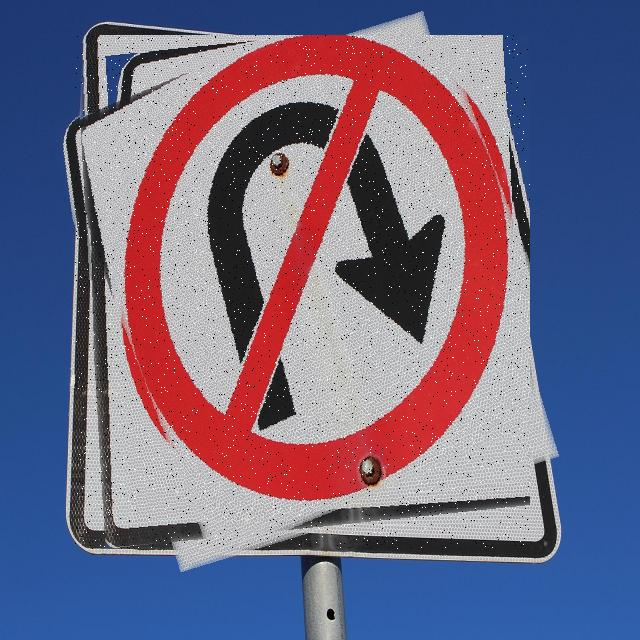no u turn: (75, 35, 530, 549)
